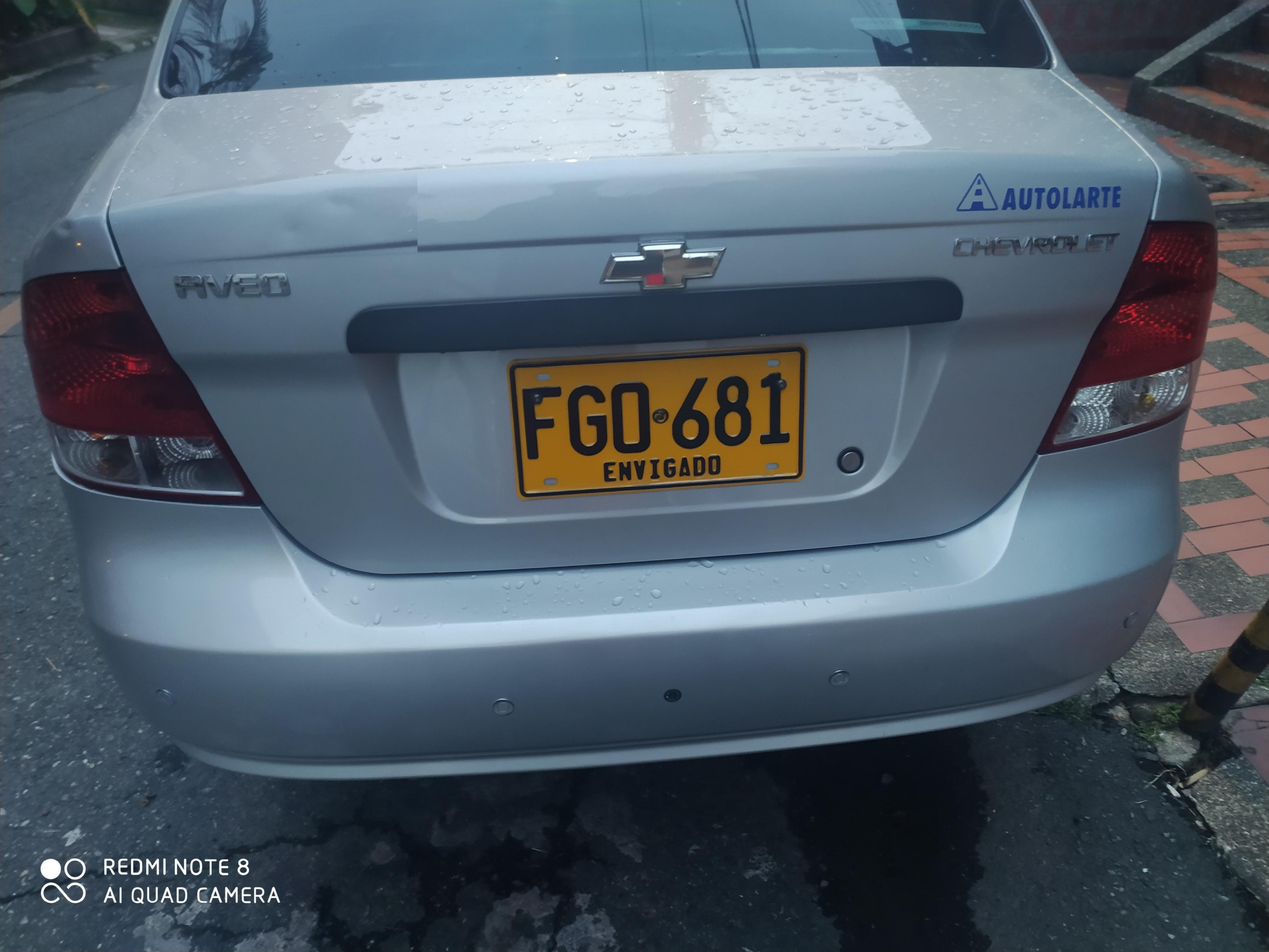placa: (492, 340, 816, 507)
